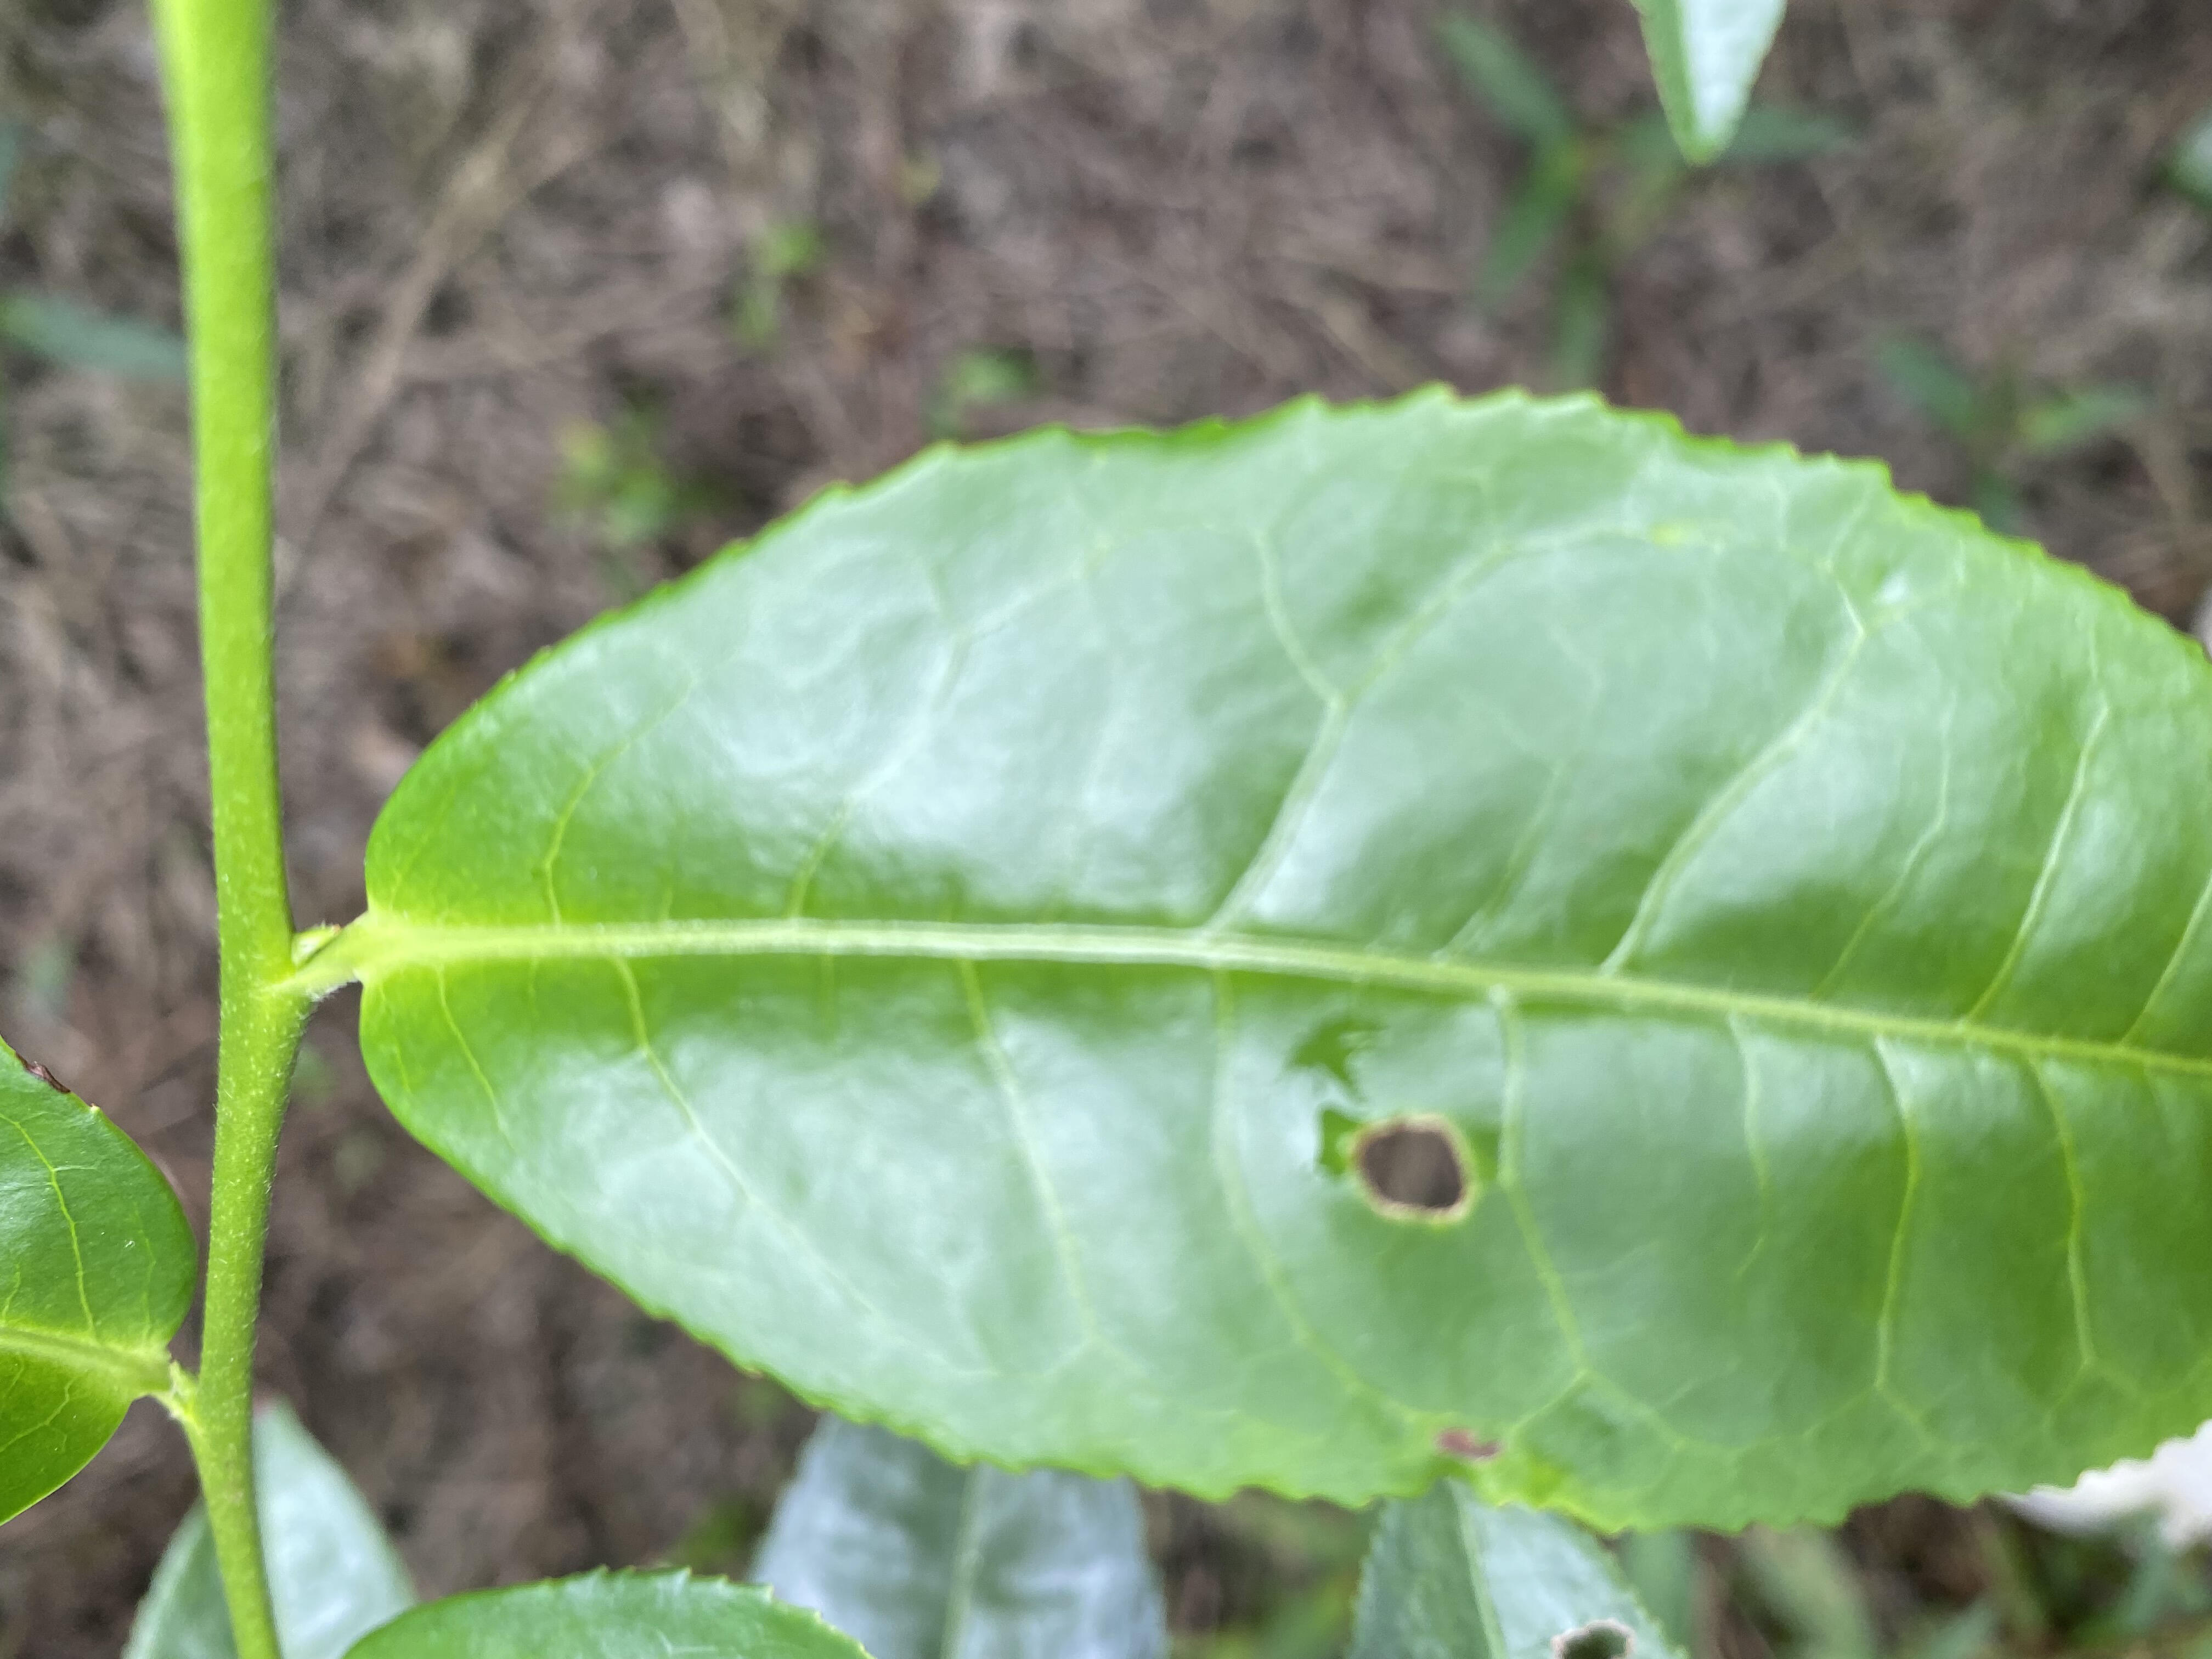chihuo_low: (362, 380, 2209, 1537)
